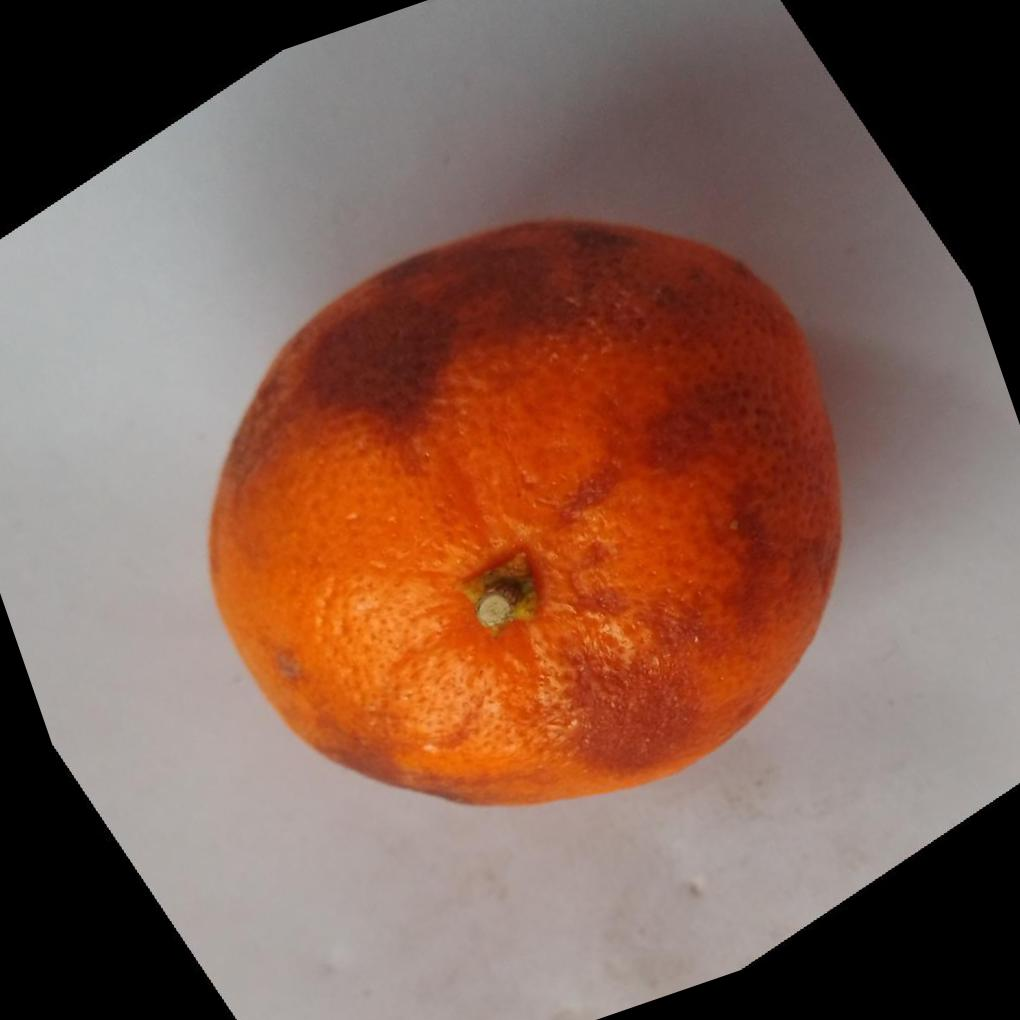FreshOrange: (205, 211, 844, 805)
